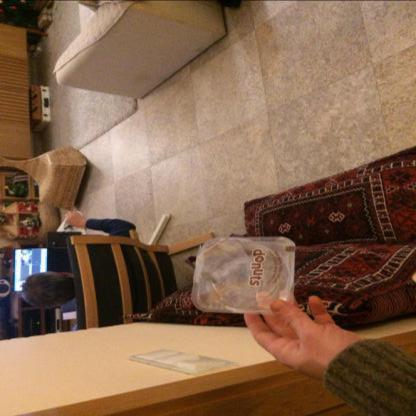Plastic container: (192, 236, 296, 314)
